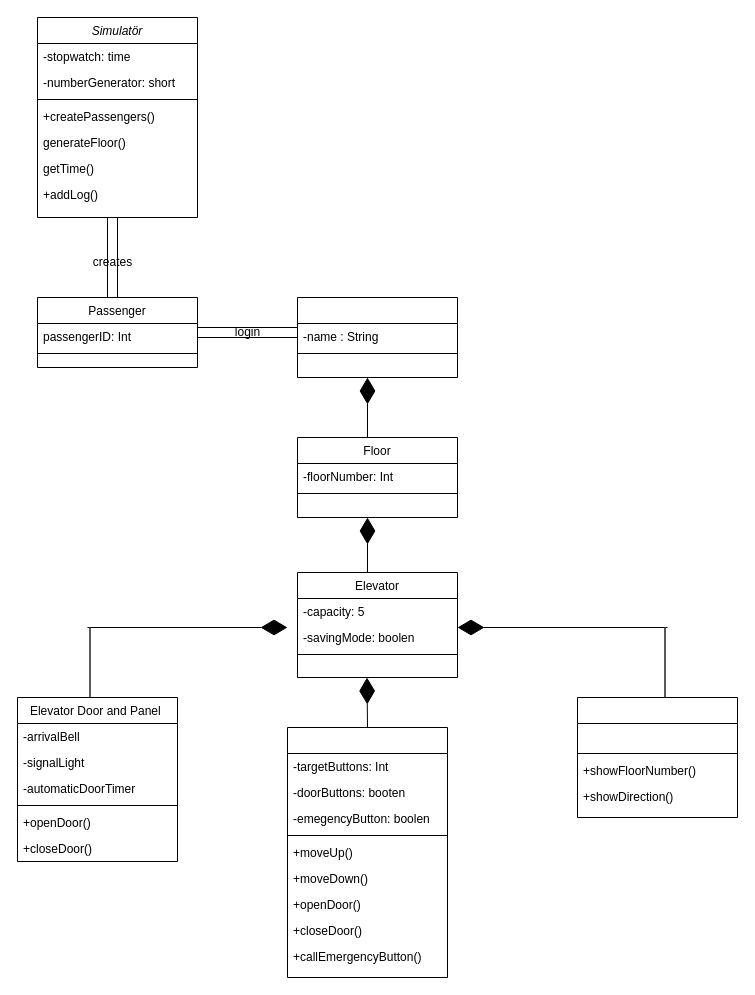
Image size: 755x995. Some labels were removed from this diagram. The shapes that lost their labels are listed below. From the top down, each one's box as (x1, y1, x2, y2) in pixels, then its label:
(296, 296, 458, 378): Build
(576, 696, 738, 818): Floor Indicator Light
(286, 726, 448, 978): Control Panel(internal)
